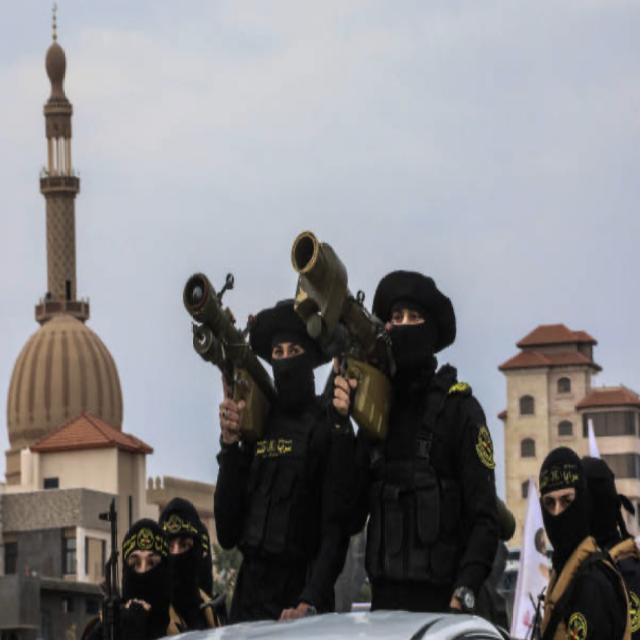bazooka: (181, 260, 275, 422), (286, 227, 376, 393)
